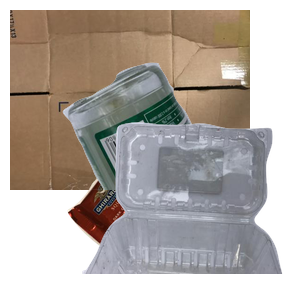cardboard: (10, 10, 250, 190)
glass: (60, 60, 300, 240)
plastic: (80, 120, 300, 300)
trash: (65, 145, 242, 300)
